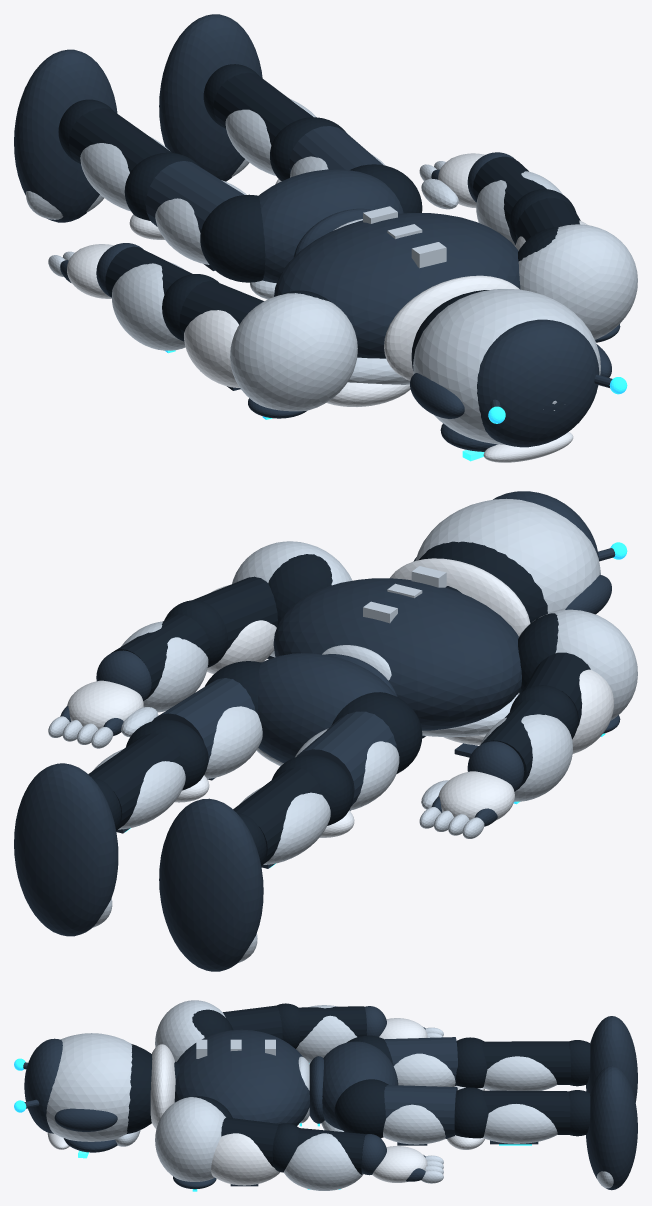
File: duch-robot.glb
The picture shows the model from 3 angles, top to bottom: view 1: azimuth 30°, elevation 25°; view 2: azimuth 150°, elevation 25°; view 3: azimuth 270°, elevation 25°; orthographic projection. The views are drawn at different scales.
Visible parts, largest first — view 1: Torso_main, Helmet_crown, L_shoulder_shell, Helmet_shell, L_foot_shell, R_foot_shell, R_shoulder_shell, Pelvis_core, L_hip, L_forearm_shell, Collar, L_thigh_core (+32 smaller); view 2: Torso_main, R_foot_shell, L_foot_shell, Helmet_shell, Pelvis_core, L_shoulder_shell, L_thigh_core, L_forearm_shell, R_shin_core, Collar, Head_core, L_shin_core (+29 smaller); view 3: Torso_main, Helmet_shell, R_foot_shell, R_shoulder_shell, Pelvis_core, R_forearm_shell, R_bicep_armor, L_foot_shell, R_hip, R_shin_armor, L_shin_core, Helmet_crown (+32 smaller).
Boxes of the visible parts, x1,y1,x2,y2 form: Torso_main: [274, 213, 520, 358]; Helmet_crown: [477, 319, 599, 447]; L_shoulder_shell: [230, 293, 357, 411]; Helmet_shell: [413, 289, 600, 444]; L_foot_shell: [14, 49, 117, 222]; R_foot_shell: [159, 14, 262, 181]; R_shoulder_shell: [518, 224, 637, 339]; Pelvis_core: [259, 169, 403, 283]; L_hip: [200, 194, 265, 282]; L_forearm_shell: [112, 261, 185, 350]; Collar: [384, 275, 519, 380]; L_thigh_core: [145, 161, 244, 232]; Torso_main: [273, 578, 521, 730]; R_foot_shell: [14, 763, 118, 936]; L_foot_shell: [159, 798, 263, 971]; Helmet_shell: [415, 498, 600, 613]; Pelvis_core: [258, 653, 396, 762]; L_shoulder_shell: [517, 609, 637, 720]; L_thigh_core: [296, 711, 396, 806]; L_forearm_shell: [480, 714, 572, 801]; R_shin_core: [88, 733, 181, 830]; Collar: [390, 558, 530, 636]; Head_core: [419, 541, 547, 623]; L_shin_core: [233, 767, 321, 865]; Torso_main: [174, 1029, 309, 1125]; Helmet_shell: [46, 1033, 132, 1141]; R_foot_shell: [586, 1066, 637, 1190]; R_shoulder_shell: [155, 1097, 225, 1181]; Pelvis_core: [322, 1041, 398, 1130]; R_forearm_shell: [283, 1133, 363, 1190]; R_bicep_armor: [211, 1133, 280, 1185]; L_foot_shell: [586, 1016, 637, 1102]; R_hip: [334, 1079, 388, 1138]; R_shin_armor: [483, 1104, 557, 1143]; L_shin_core: [482, 1041, 570, 1084]; Helmet_crown: [24, 1038, 62, 1133].
Bounding box in the file's own units: 2.6 × 0.98 × 4.54.
